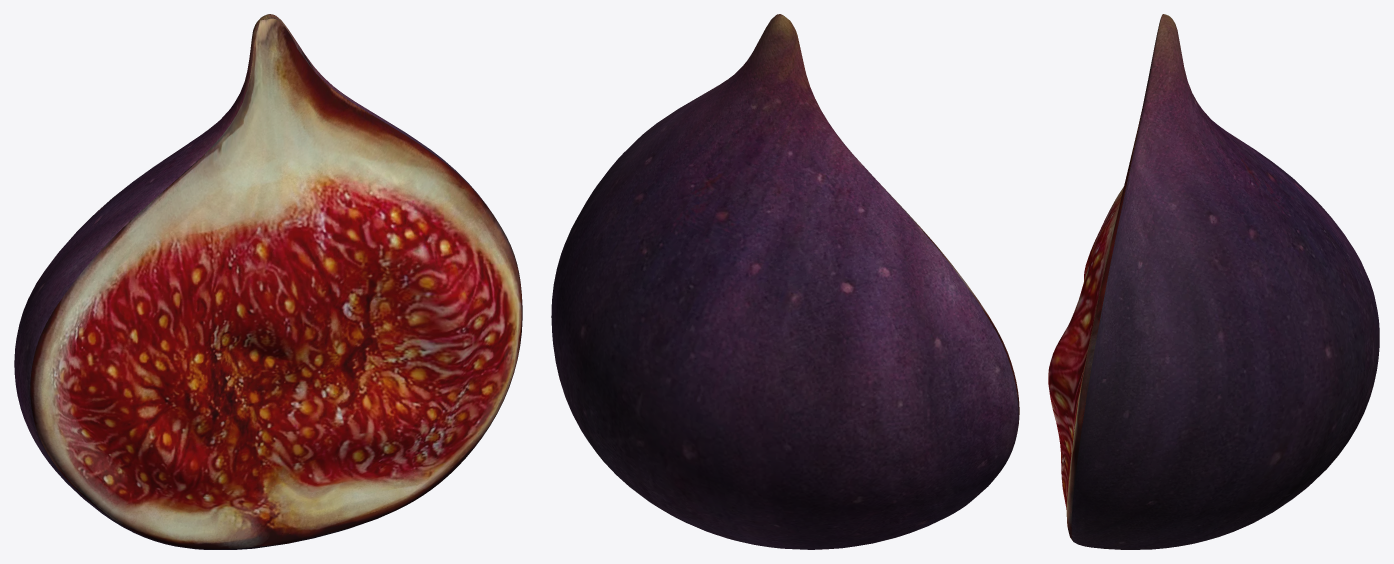
Rendered from fig-half.glb.
3 renders of one model, left to right at view 1: azimuth 30°, elevation 25°; view 2: azimuth 150°, elevation 25°; view 3: azimuth 270°, elevation 25°, orthographic.
Visible parts, largest first — view 1: fig half 1; view 2: fig half 1; view 3: fig half 1.
Part boxes in pixels (left/top/right/bottom): fig half 1: left=14, top=14, right=522, bottom=549; fig half 1: left=551, top=14, right=1019, bottom=549; fig half 1: left=1048, top=14, right=1379, bottom=549.
Bounding box in the file's own units: 78.5 × 83.43 × 49.8.
2 materials, 2 textured.
